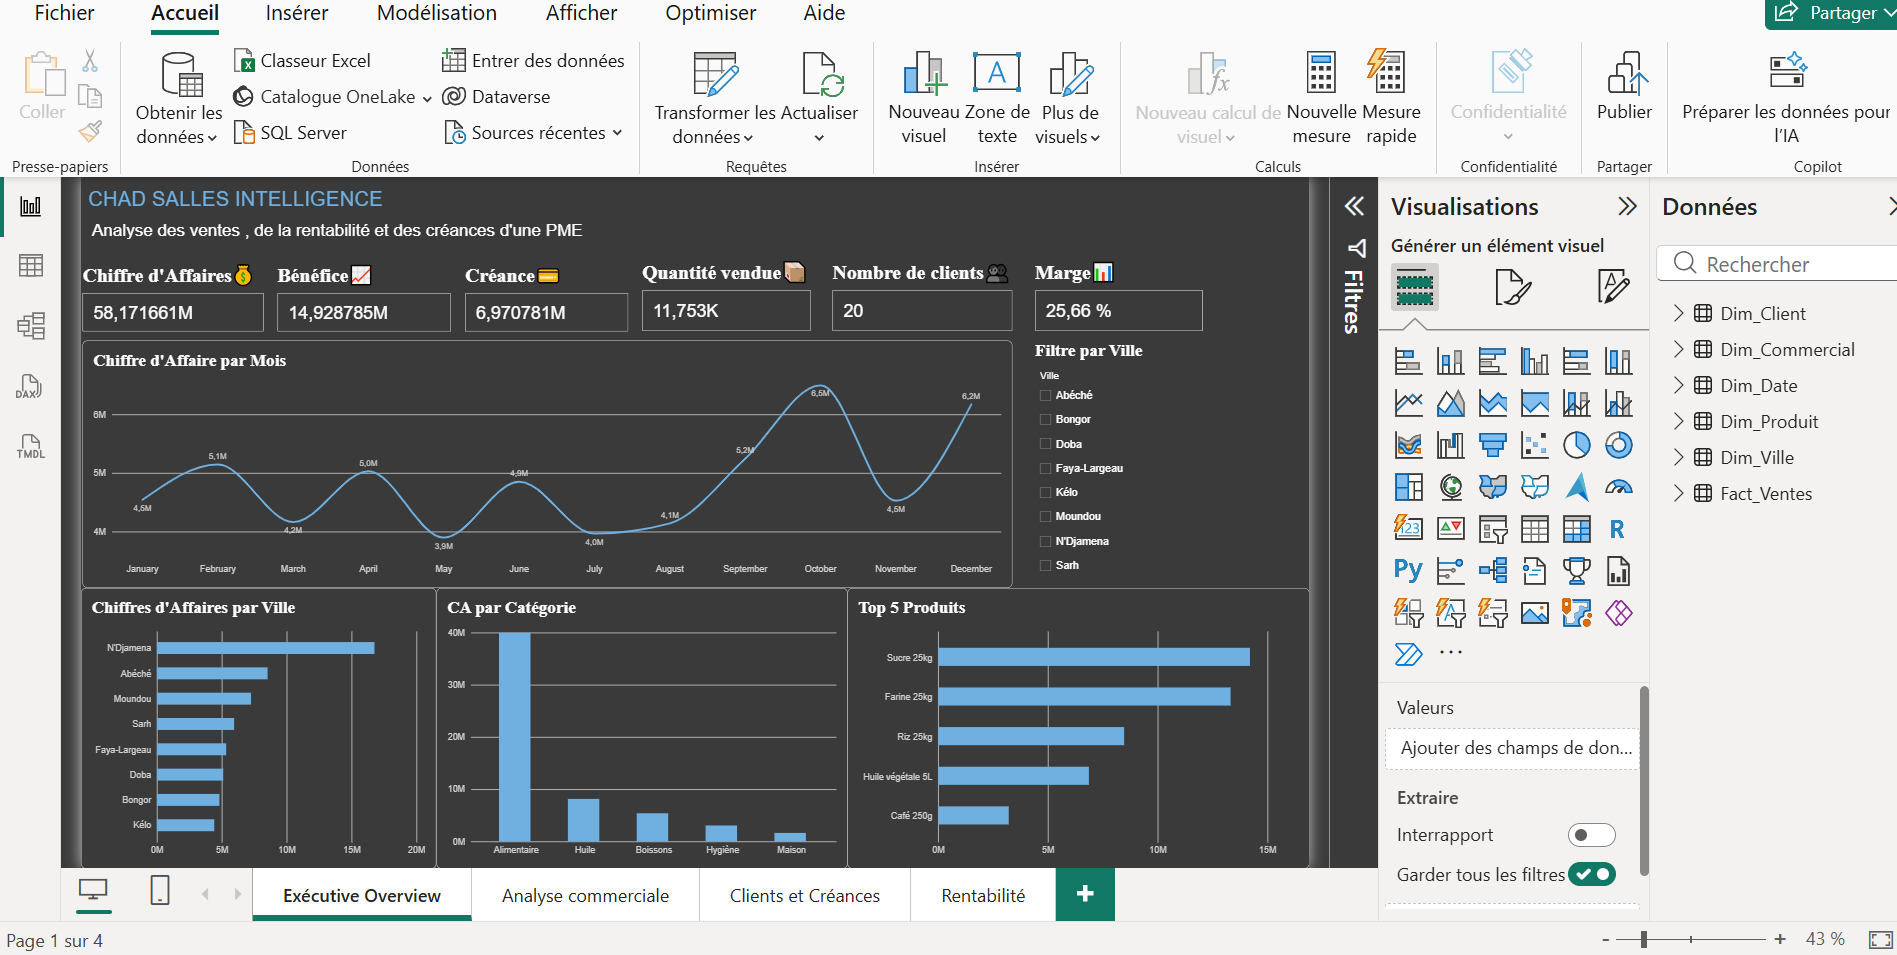

This screenshot's page, from the dashboard's own definition file:
{"tool":"powerbi","page":{"name":"Exécutive Overview","canvas":[1920,1080],"ordinal":0},"visuals":[{"type":"cardVisual","title":"Chiffre d''Affaires💰","fields":{"Data":["Fact_Ventes.Chiffres d'Affaires"]},"box":[2.3,131.3,283.7,110.2],"z":0},{"type":"cardVisual","title":"Bénéfice📈","fields":{"Data":["Sum(Fact_Ventes.Benefice)"]},"box":[307.1,131.3,272,110.2],"z":1000},{"type":"cardVisual","title":"Créance💳","fields":{"Data":["Fact_Ventes.Créances"]},"box":[600.2,131.3,255.5,110.2],"z":2000},{"type":"cardVisual","title":"Quantité vendue📦","fields":{"Data":["Fact_Ventes.Quantité vendue"]},"box":[876.8,126.6,264.9,114.9],"z":3000},{"type":"cardVisual","title":"Nombre de clients👥","fields":{"Data":["Fact_Ventes.Nombre de clients"]},"box":[1174.6,126.6,281.3,114.9],"z":4000},{"type":"cardVisual","title":"Marge📊","fields":{"Data":["Fact_Ventes.Marge %"]},"box":[1491.1,126.6,262.6,114.9],"z":5000},{"type":"lineChart","title":"Chiffre d''Affaire par Mois","fields":{"Category":["Dim_Date.Mois"],"Y":["Fact_Ventes.Chiffres d'Affaires"]},"box":[2.3,255.5,1453.6,386.8],"z":6000},{"type":"clusteredBarChart","title":"Chiffres d''Affaires par Ville","fields":{"Category":["Dim_Ville.Ville"],"Y":["Fact_Ventes.Chiffres d'Affaires"]},"box":[0,642.4,555.6,438.4],"z":7000},{"type":"clusteredBarChart","title":"Top 5 Produits","fields":{"Category":["Dim_Produit.Produit"],"Y":["Fact_Ventes.Chiffres d'Affaires"]},"box":[1198,642.4,722.1,438.4],"z":8000},{"type":"clusteredColumnChart","title":"CA par Catégorie","fields":{"Category":["Dim_Produit.Categorie"],"Y":["Fact_Ventes.Chiffres d'Affaires"]},"box":[555.6,642.4,642.4,438.4],"z":9000},{"type":"slicer","title":"Filtre par Ville","fields":{"Values":["Dim_Ville.Ville"]},"box":[1491.1,255.5,393.9,386.8],"z":10000},{"type":"textbox","box":[2.3,0,1357.5,126.6],"z":10001}]}

Visuals, with their boxes on the page's 1920x1080 design canvas (x1, y1, x2, y2). These are canvas units, not pixel positions in the 1897x955 screenshot, which may show the page scaled, cropped or inside an application window:
"Chiffre d''Affaires💰" cardVisual: <box>2,131,286,242</box>
"Bénéfice📈" cardVisual: <box>307,131,579,242</box>
"Créance💳" cardVisual: <box>600,131,856,242</box>
"Quantité vendue📦" cardVisual: <box>877,127,1142,242</box>
"Nombre de clients👥" cardVisual: <box>1175,127,1456,242</box>
"Marge📊" cardVisual: <box>1491,127,1754,242</box>
"Chiffre d''Affaire par Mois" lineChart: <box>2,256,1456,642</box>
"Chiffres d''Affaires par Ville" clusteredBarChart: <box>0,642,556,1081</box>
"Top 5 Produits" clusteredBarChart: <box>1198,642,1920,1081</box>
"CA par Catégorie" clusteredColumnChart: <box>556,642,1198,1081</box>
"Filtre par Ville" slicer: <box>1491,256,1885,642</box>
textbox: <box>2,0,1360,127</box>
